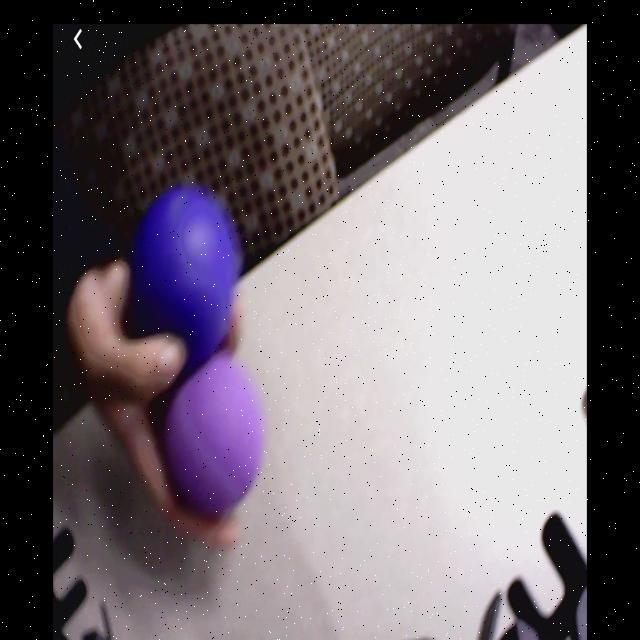ball: (133, 187, 235, 351), (163, 351, 262, 514)
